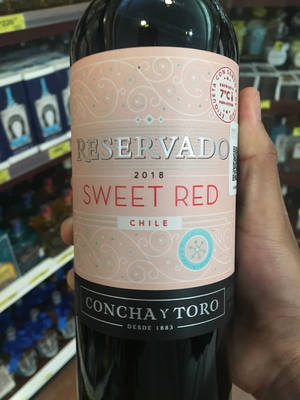reservado sweet red: (61, 10, 257, 362)
